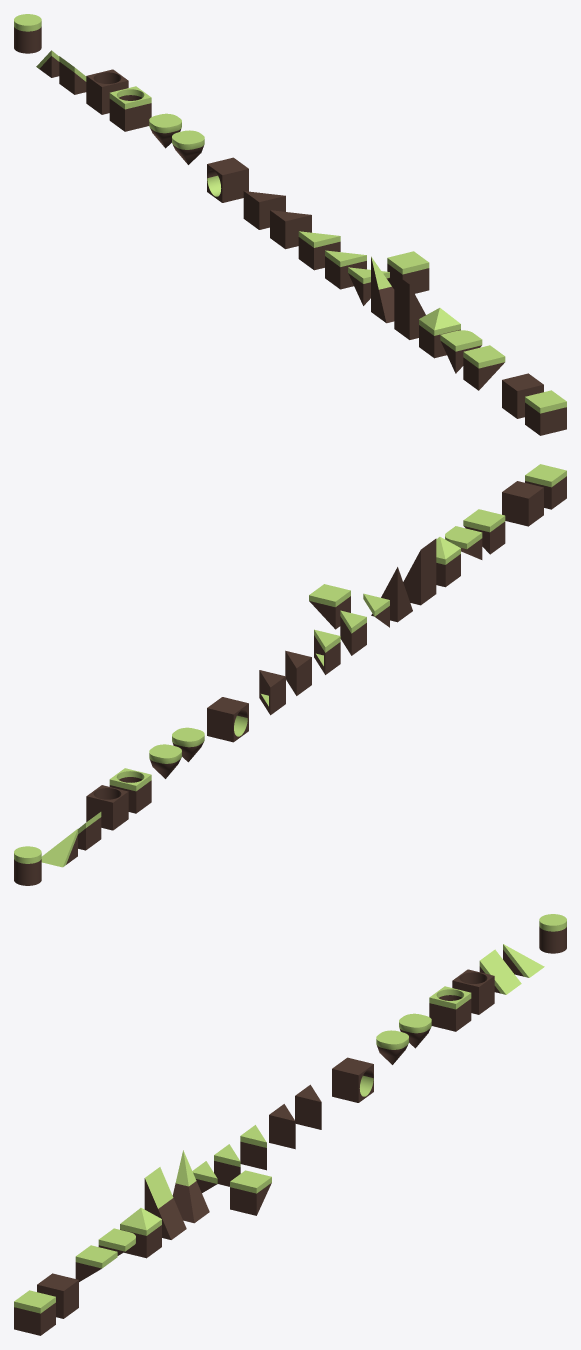
Rendered from Tiles 03.dae.
3 renders of one model, top to bottom at view 1: azimuth 30°, elevation 25°; view 2: azimuth 150°, elevation 25°; view 3: azimuth 330°, elevation 25°, orthographic.
Parts seen in each view (by area): view 1: 13 Ground Hole -col, 01 Ground Base -col, 10 Ground Block Hollow -col, 05 Wall Slanted -col, 15 Ground Trinagle Alternative -col, 02 Ground Edge -col, 04 Ground Spike -col, 09 Ground Triangle Block -col, 14 Ground Block Hole -col, 01b Ground Block -col, 09b Ground Triangle Block Hollow -col, 09b Ground Triangle Hollow -col.001 (+8 smaller); view 2: 10 Ground Block Hollow -col, 01b Ground Block -col, 05 Wall Slanted -col, 14 Ground Block Hole -col, 13 Ground Hole -col, 01 Ground Base -col, 02 Ground Edge -col, 15 Ground Trinagle Alternative -col, 04 Ground Spike -col, 13b Ground Cylinder -col, 08 Ground Trinagle 2 -col, 09b Ground Triangle Block Hollow -col (+9 smaller); view 3: 05 Wall Slanted -col, 13 Ground Hole -col, 01 Ground Base -col, 10 Ground Block Hollow -col, 06 Wall Slanted Corner -col, 15 Ground Trinagle Alternative -col, 04 Ground Spike -col, 14 Ground Block Hole -col, 01b Ground Block -col, 13b Ground Cylinder -col, 16 Ground Slope -col, 09 Ground Triangle Block -col (+8 smaller).
Part boxes in pixels (x1=…): 13 Ground Hole -col: x1=109, y1=86, x2=151, y2=131; 01 Ground Base -col: x1=525, y1=390, x2=566, y2=435; 10 Ground Block Hollow -col: x1=207, y1=157, x2=248, y2=202; 05 Wall Slanted -col: x1=394, y1=273, x2=425, y2=339; 15 Ground Trinagle Alternative -col: x1=387, y1=251, x2=429, y2=293; 02 Ground Edge -col: x1=463, y1=345, x2=505, y2=390; 04 Ground Spike -col: x1=419, y1=308, x2=460, y2=358; 09 Ground Triangle Block -col: x1=270, y1=210, x2=311, y2=249; 14 Ground Block Hole -col: x1=86, y1=69, x2=128, y2=114; 01b Ground Block -col: x1=502, y1=373, x2=543, y2=418; 09b Ground Triangle Block Hollow -col: x1=243, y1=191, x2=285, y2=229; 09b Ground Triangle Hollow -col.001: x1=298, y1=231, x2=340, y2=270; 10 Ground Block Hollow -col: x1=207, y1=697, x2=248, y2=742; 01b Ground Block -col: x1=502, y1=481, x2=543, y2=526; 05 Wall Slanted -col: x1=403, y1=538, x2=436, y2=605; 14 Ground Block Hole -col: x1=86, y1=785, x2=128, y2=830; 13 Ground Hole -col: x1=109, y1=768, x2=151, y2=813; 01 Ground Base -col: x1=525, y1=464, x2=566, y2=509; 02 Ground Edge -col: x1=463, y1=509, x2=505, y2=554; 15 Ground Trinagle Alternative -col: x1=309, y1=584, x2=350, y2=629; 04 Ground Spike -col: x1=436, y1=537, x2=460, y2=587; 13b Ground Cylinder -col: x1=14, y1=846, x2=41, y2=885; 08 Ground Trinagle 2 -col: x1=340, y1=610, x2=366, y2=655; 09b Ground Triangle Block Hollow -col: x1=259, y1=670, x2=285, y2=715; 05 Wall Slanted -col: x1=144, y1=1167, x2=186, y2=1239; 13 Ground Hole -col: x1=429, y1=986, x2=471, y2=1031; 01 Ground Base -col: x1=14, y1=1290, x2=55, y2=1335; 10 Ground Block Hollow -col: x1=332, y1=1057, x2=373, y2=1102; 06 Wall Slanted Corner -col: x1=172, y1=1150, x2=209, y2=1223; 15 Ground Trinagle Alternative -col: x1=230, y1=1170, x2=271, y2=1215; 04 Ground Spike -col: x1=120, y1=1208, x2=161, y2=1258; 14 Ground Block Hole -col: x1=452, y1=969, x2=494, y2=1014; 01b Ground Block -col: x1=37, y1=1273, x2=78, y2=1318; 13b Ground Cylinder -col: x1=539, y1=914, x2=566, y2=953; 16 Ground Slope -col: x1=479, y1=949, x2=521, y2=994; 09 Ground Triangle Block -col: x1=269, y1=1104, x2=295, y2=1149.
Size of the model in its own units: 4.94 by 69.26 by 4.
